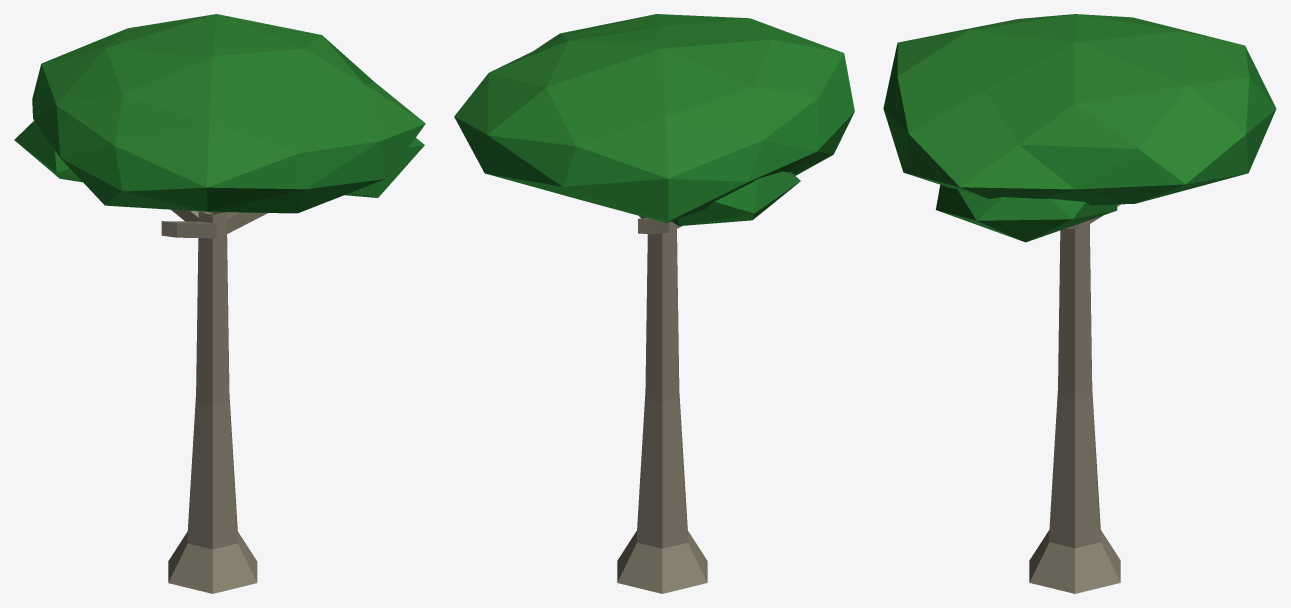
Rendered from ceiba.obj.
3 views of the same model, side by side, from view 1: azimuth 30°, elevation 25°; view 2: azimuth 150°, elevation 25°; view 3: azimuth 270°, elevation 25° (orthographic). The views are drawn at different scales.
Parts seen in each view (by area): view 1: ceiba; view 2: ceiba; view 3: ceiba.
Part boxes in pixels (x1,y1,x2,y2): ceiba: [14, 14, 425, 593]; ceiba: [454, 14, 854, 593]; ceiba: [883, 14, 1276, 593].
Bounding box in the file's own units: 1.14 × 1.77 × 1.19.
